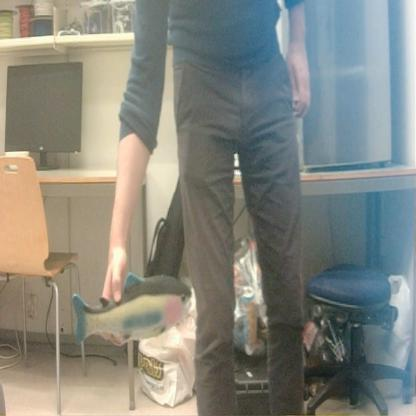rubberfish: (67, 269, 193, 350)
